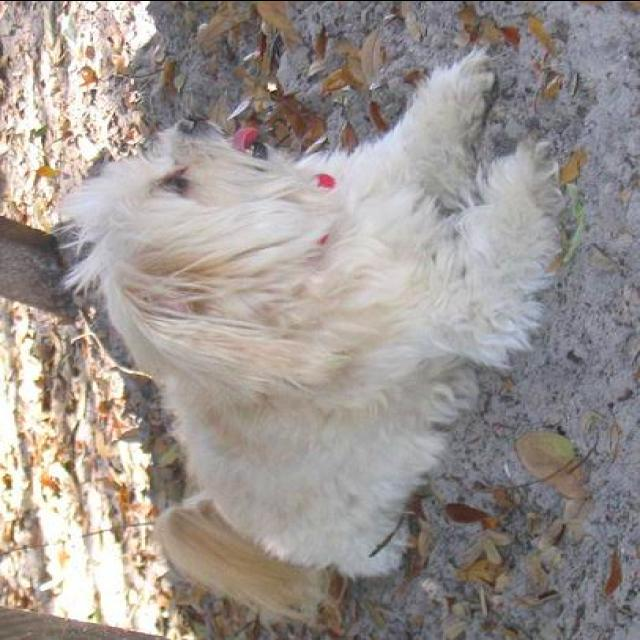maltese_dog: (58, 44, 564, 624)
